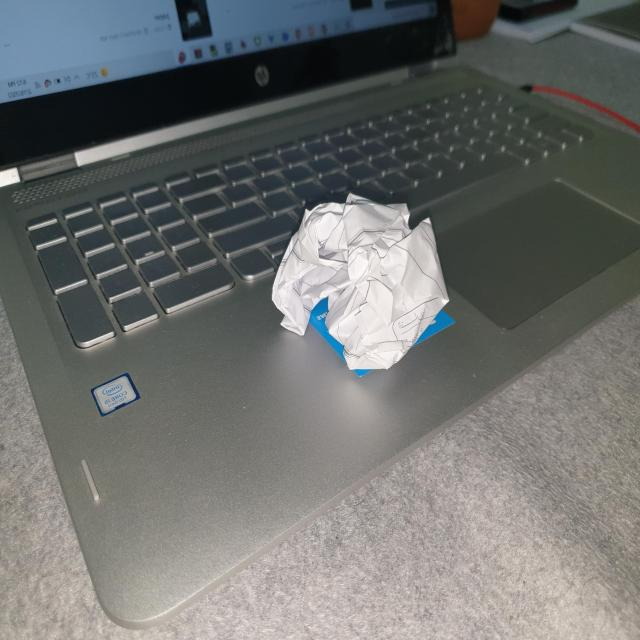kertas: (266, 182, 456, 392)
